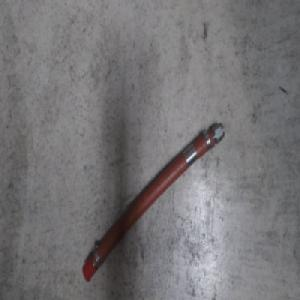Hose: (80, 120, 225, 285)
